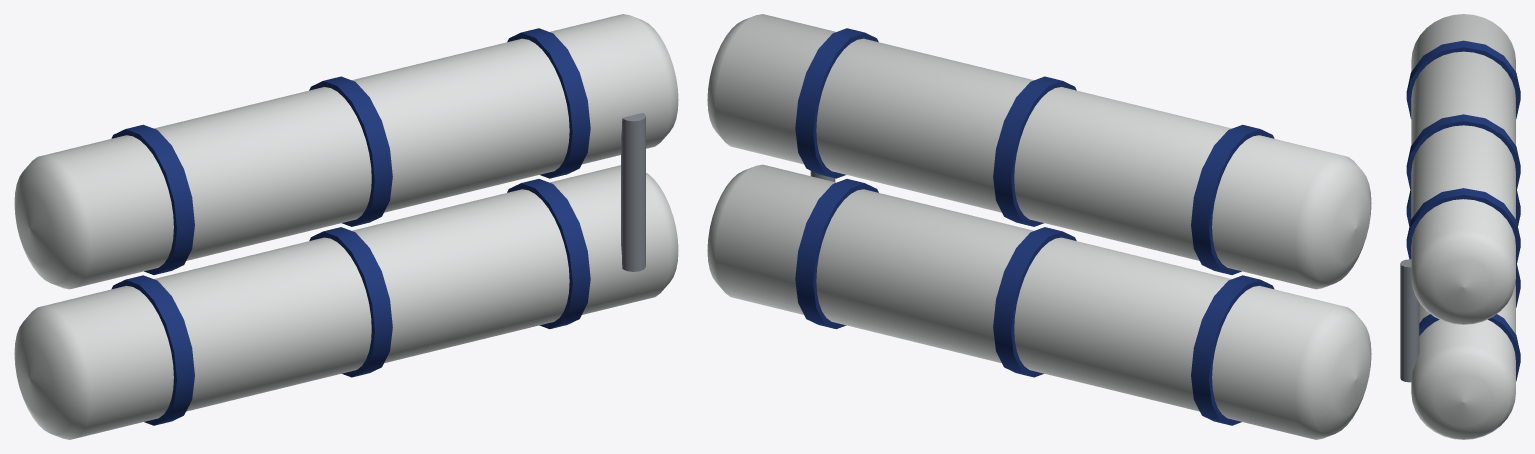
The model's file is l4_water.obj.
The picture shows the model from 3 angles, left to right: view 1: azimuth 30°, elevation 25°; view 2: azimuth 150°, elevation 25°; view 3: azimuth 270°, elevation 25°; orthographic projection. The views are drawn at different scales.
Parts seen in each view (by area): view 1: l4_water; view 2: l4_water; view 3: l4_water.
Part boxes in pixels (x1,y1,x2,y2): l4_water: (14, 14, 678, 439); l4_water: (707, 14, 1371, 439); l4_water: (1400, 14, 1520, 439).
Bounding box in the file's own units: 1.76 × 0.76 × 0.38.
